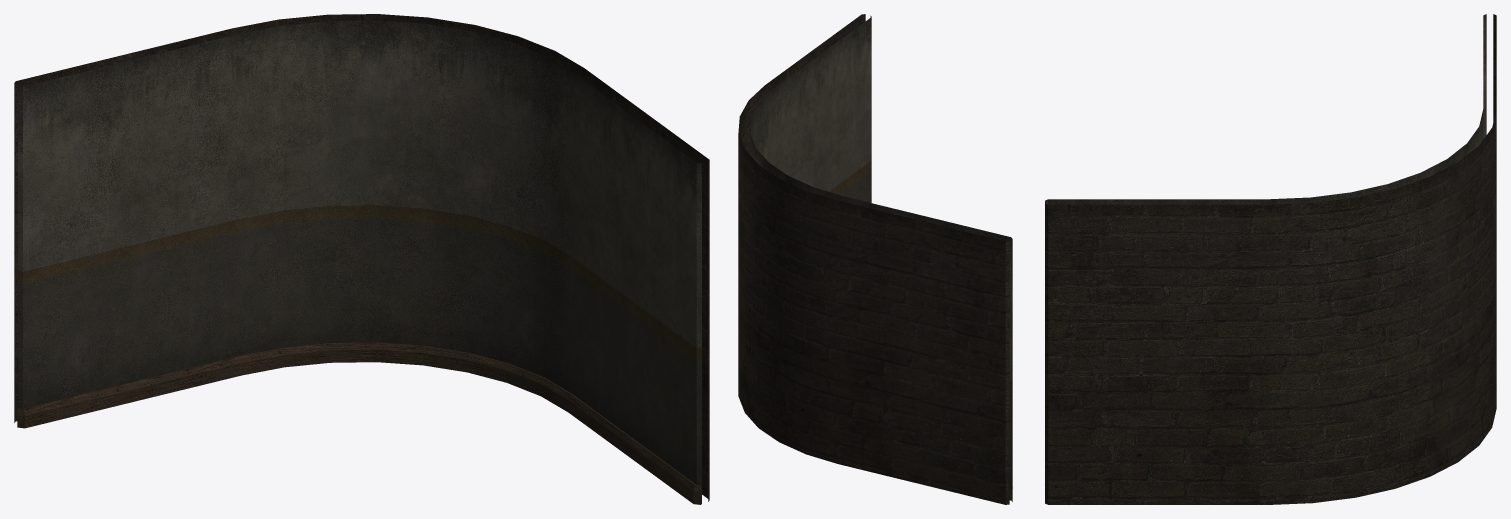
The model's file is wall_1_rounded_corner_1_2.glb.
The picture shows the model from 3 angles, left to right: view 1: azimuth 30°, elevation 25°; view 2: azimuth 150°, elevation 25°; view 3: azimuth 270°, elevation 25°; orthographic projection. The views are drawn at different scales.
Parts seen in each view (by area): view 1: wall_1_rounded_corner_1_2; view 2: wall_1_rounded_corner_1_2; view 3: wall_1_rounded_corner_1_2.
Boxes of the visible parts, x1,y1,x2,y2 form: wall_1_rounded_corner_1_2: [14, 14, 709, 504]; wall_1_rounded_corner_1_2: [738, 14, 1012, 504]; wall_1_rounded_corner_1_2: [1045, 14, 1496, 504].
Size of the model in its own units: 4.11 by 3 by 4.11.
Materials: 3 (3 with a texture image).
